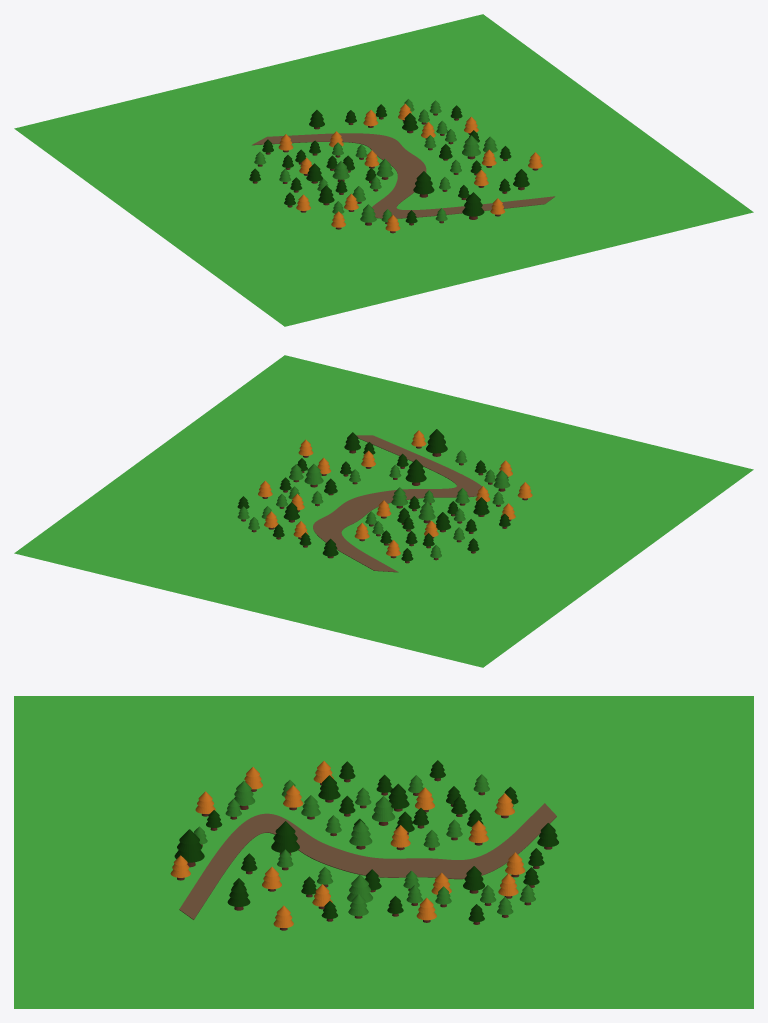
File: TowerDefense-Nature.fbx
3 renders of one model, top to bottom at view 1: azimuth 30°, elevation 25°; view 2: azimuth 150°, elevation 25°; view 3: azimuth 270°, elevation 25°, orthographic. The views are drawn at different scales.
Visible parts, largest first — view 1: Plane, Cube; view 2: Plane, Cube; view 3: Plane, Cube, Cylinder.018, Cylinder.011.
Part boxes in pixels (bbox=[...]): Plane: bbox=[14, 14, 753, 326]; Cube: bbox=[252, 133, 554, 218]; Plane: bbox=[14, 355, 753, 667]; Cube: bbox=[313, 435, 481, 572]; Plane: bbox=[14, 696, 753, 1008]; Cube: bbox=[179, 803, 556, 919]; Cylinder.018: bbox=[174, 829, 204, 867]; Cylinder.011: bbox=[271, 821, 299, 855].
Bounding box in the file's own units: 4741 × 261 × 4741.
